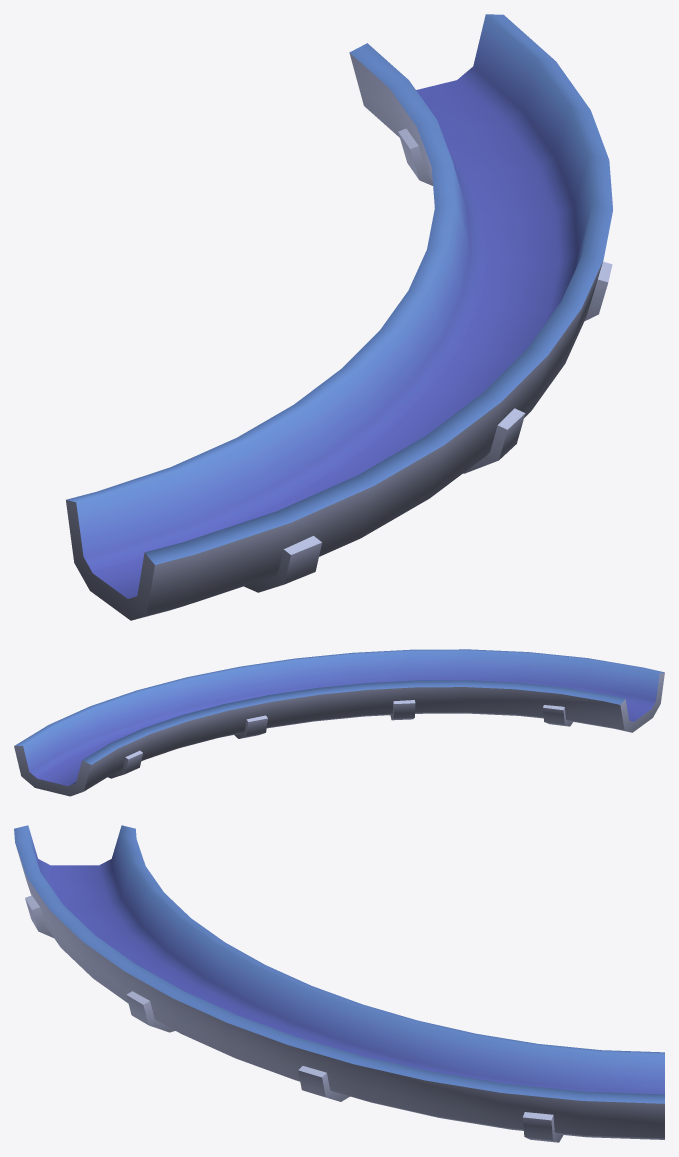
The model's file is kenney-coaster-coaster-flume-corner-large.glb.
3 views of the same model, one above another, from view 1: azimuth 30°, elevation 25°; view 2: azimuth 150°, elevation 25°; view 3: azimuth 270°, elevation 25° (orthographic). The views are drawn at different scales.
Parts seen in each view (by area): view 1: coaster-flume-corner-large; view 2: coaster-flume-corner-large; view 3: coaster-flume-corner-large.
Boxes of the visible parts, x1=… form: coaster-flume-corner-large: x1=66, y1=14, x2=612, y2=620; coaster-flume-corner-large: x1=14, y1=649, x2=664, y2=796; coaster-flume-corner-large: x1=14, y1=825, x2=664, y2=1142.
Bounding box in the file's own units: 4.41 × 0.4509 × 4.41.
1 material, 1 textured.
